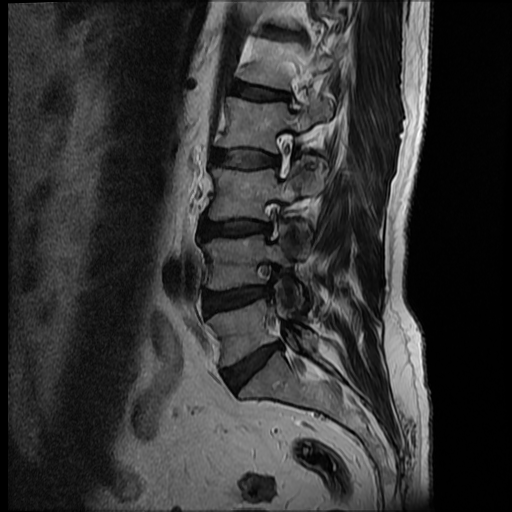RFS0: (262, 121, 302, 185)
RFS1: (249, 187, 291, 251)
